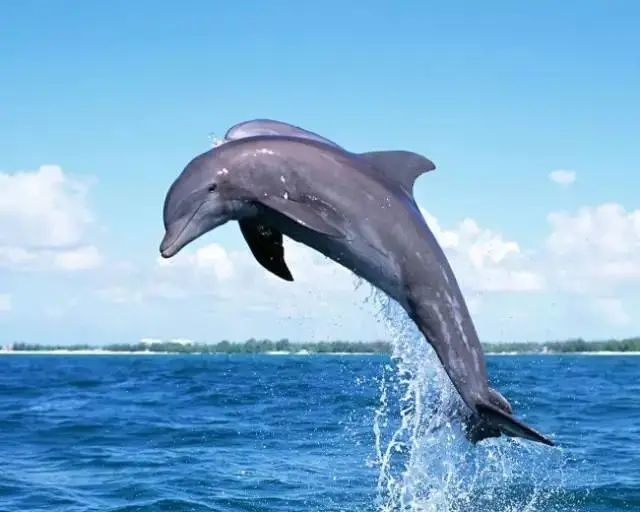fish: (159, 114, 566, 454)
